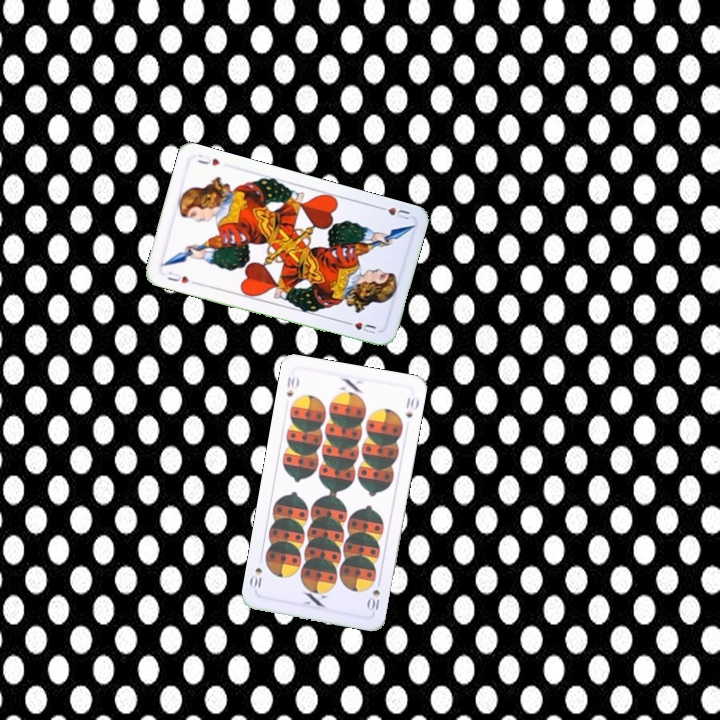HU: (373, 202, 412, 223), (163, 267, 192, 286)
S10: (364, 575, 383, 615), (282, 372, 301, 399)
